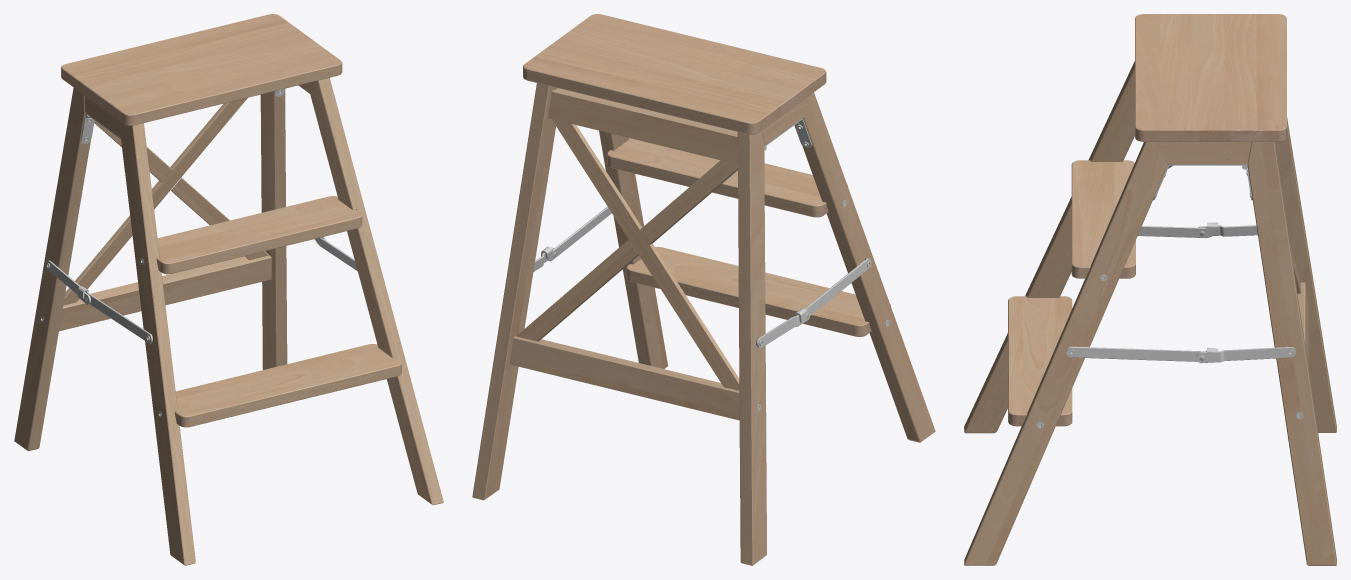
File: bekvam_taboret_ze_schodkiem_90190411.glb
The picture shows the model from 3 angles, left to right: view 1: azimuth 30°, elevation 25°; view 2: azimuth 150°, elevation 25°; view 3: azimuth 270°, elevation 25°; orthographic projection. The views are drawn at different scales.
Visible parts, largest first — view 1: bekvam_taboret_ze_schodkiem_90190411; view 2: bekvam_taboret_ze_schodkiem_90190411; view 3: bekvam_taboret_ze_schodkiem_90190411.
Boxes of the visible parts, x1=… form: bekvam_taboret_ze_schodkiem_90190411: x1=14, y1=14, x2=443, y2=565; bekvam_taboret_ze_schodkiem_90190411: x1=472, y1=14, x2=935, y2=565; bekvam_taboret_ze_schodkiem_90190411: x1=964, y1=14, x2=1336, y2=565.
Bounding box in the file's own units: 0.4425 × 0.6301 × 0.501.
1 material, 1 textured.
